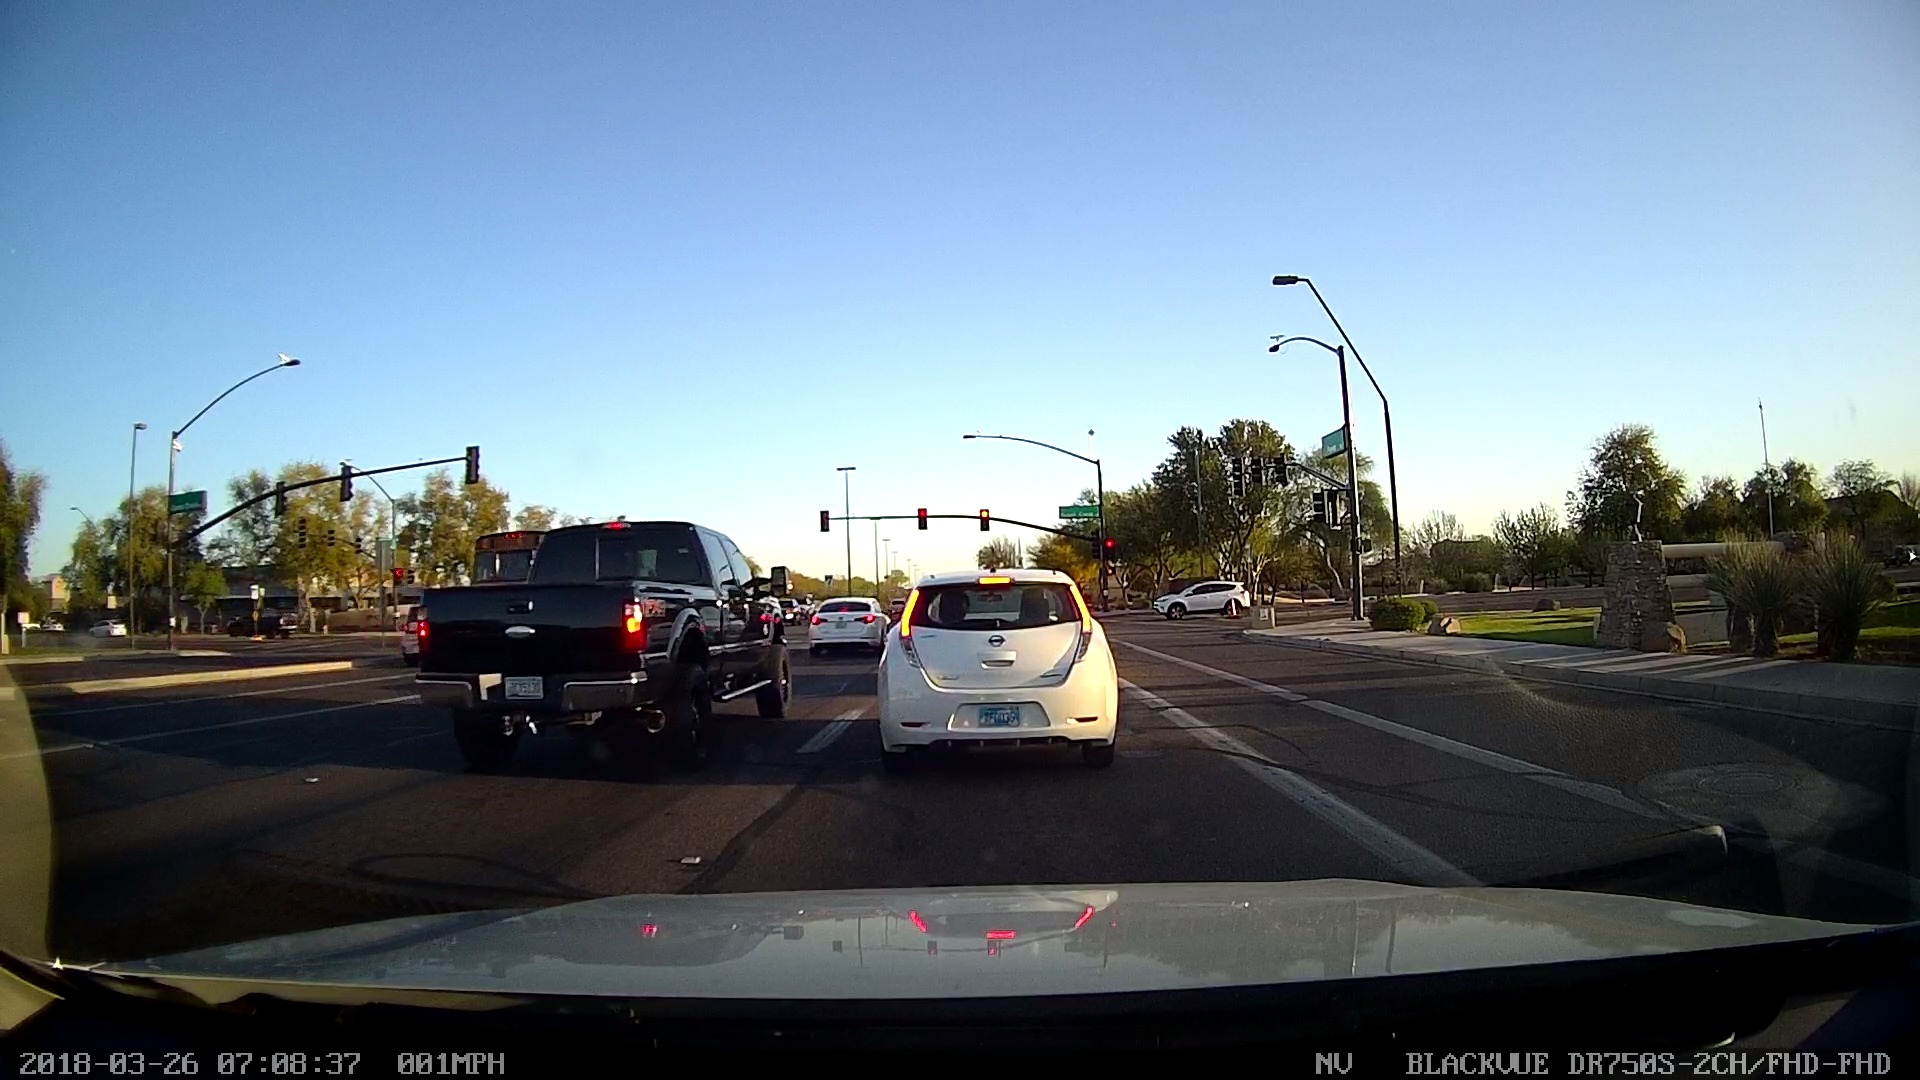vehicle: (402, 502, 800, 785), (870, 564, 1127, 777), (793, 583, 898, 667), (1149, 572, 1258, 622)
